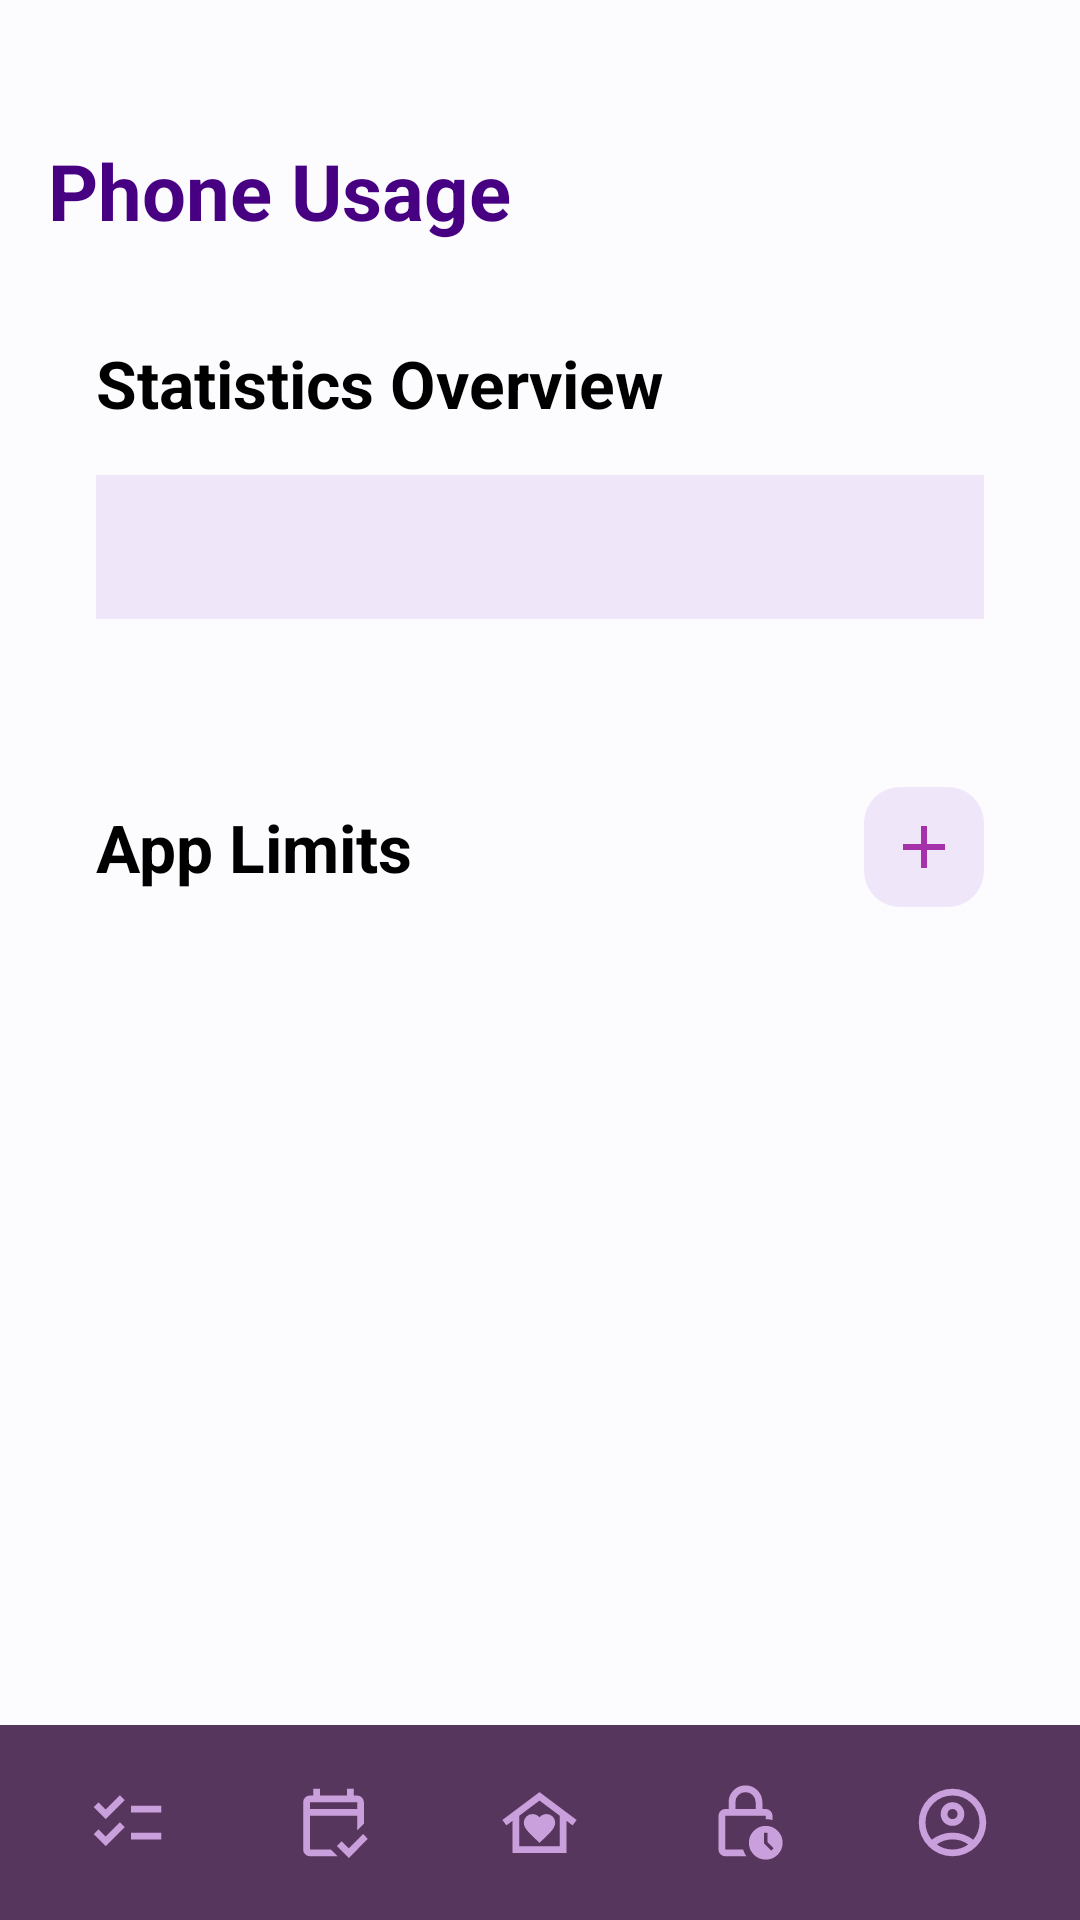

Screen size 1080px x 1920px. Icon name, then its center in pixels as point (x, y):
account: point (952, 1822)
Add Limit: point (924, 847)
calendar: point (335, 1823)
checklist: point (128, 1820)
home: point (539, 1822)
